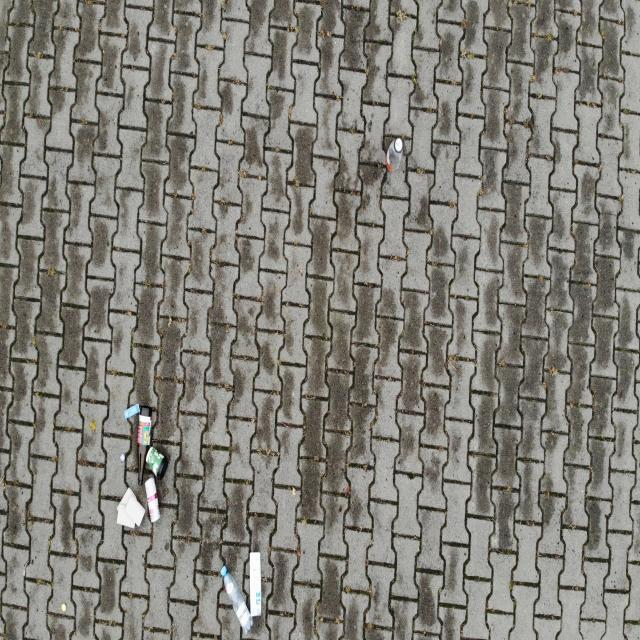rubbish: (220, 566, 254, 633), (136, 406, 154, 484), (117, 487, 146, 528), (145, 445, 168, 481), (250, 551, 261, 615), (145, 476, 160, 522), (385, 137, 403, 173), (123, 404, 140, 421), (120, 452, 125, 463)
